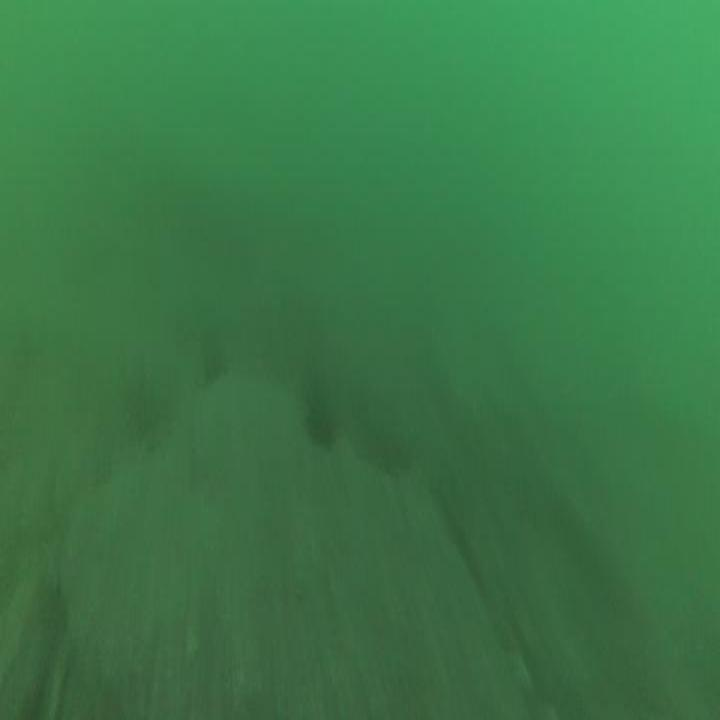echinus: (304, 395, 336, 448)
